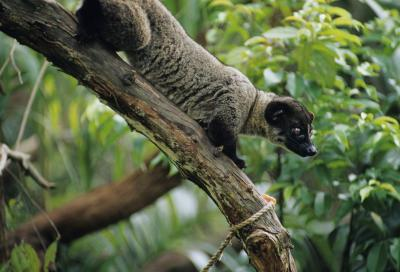Civet: (80, 1, 328, 178)
